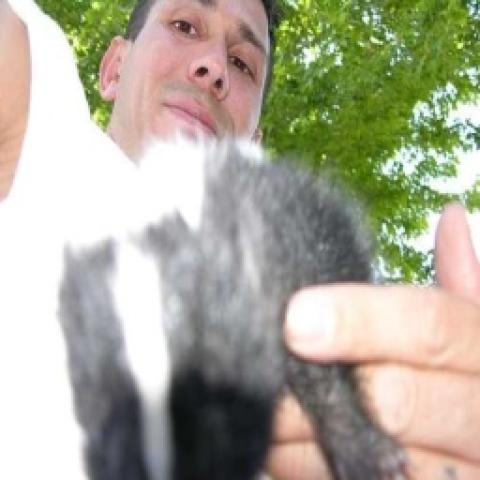small_animal: (47, 152, 381, 480)
